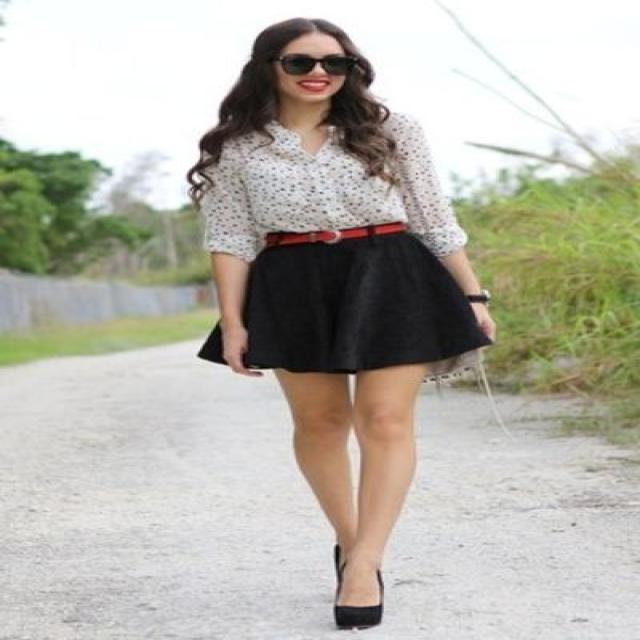shirt: (195, 115, 466, 260)
shoe: (334, 604, 381, 629)
skirt: (198, 226, 490, 373)
sunglass: (277, 38, 363, 75)
